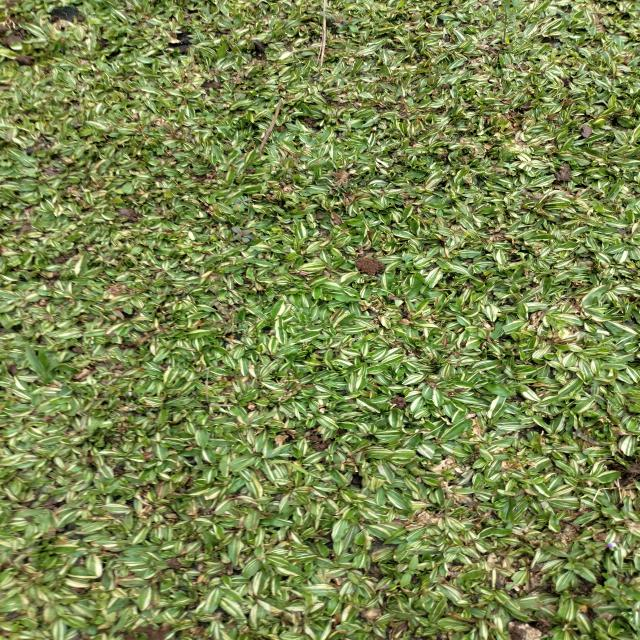akar wangi: (488, 1, 526, 69)
buah daun: (324, 10, 353, 32), (230, 225, 258, 247), (230, 195, 255, 214), (230, 83, 252, 103)
rambat atas: (266, 460, 312, 476)
tunggang besar: (399, 555, 423, 588)
ungu tunggang: (562, 542, 618, 577), (592, 577, 636, 604)
